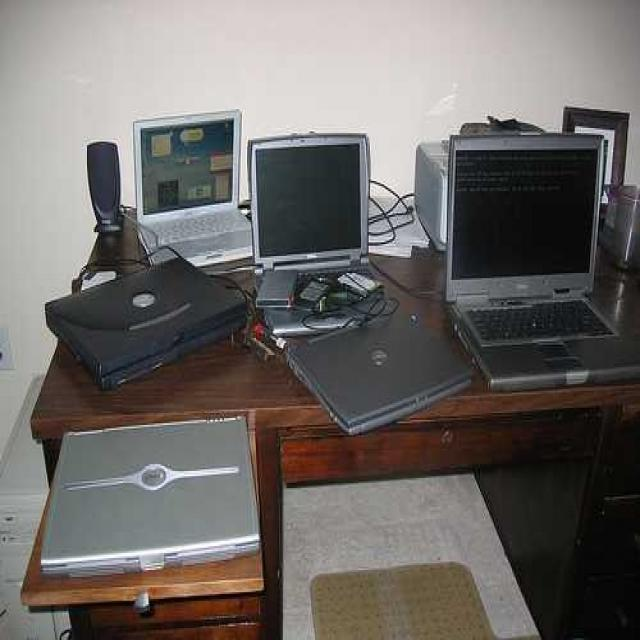laptop: (446, 122, 636, 387), (42, 423, 282, 563), (246, 140, 390, 321), (38, 256, 238, 383), (120, 111, 256, 265), (287, 328, 462, 415)
